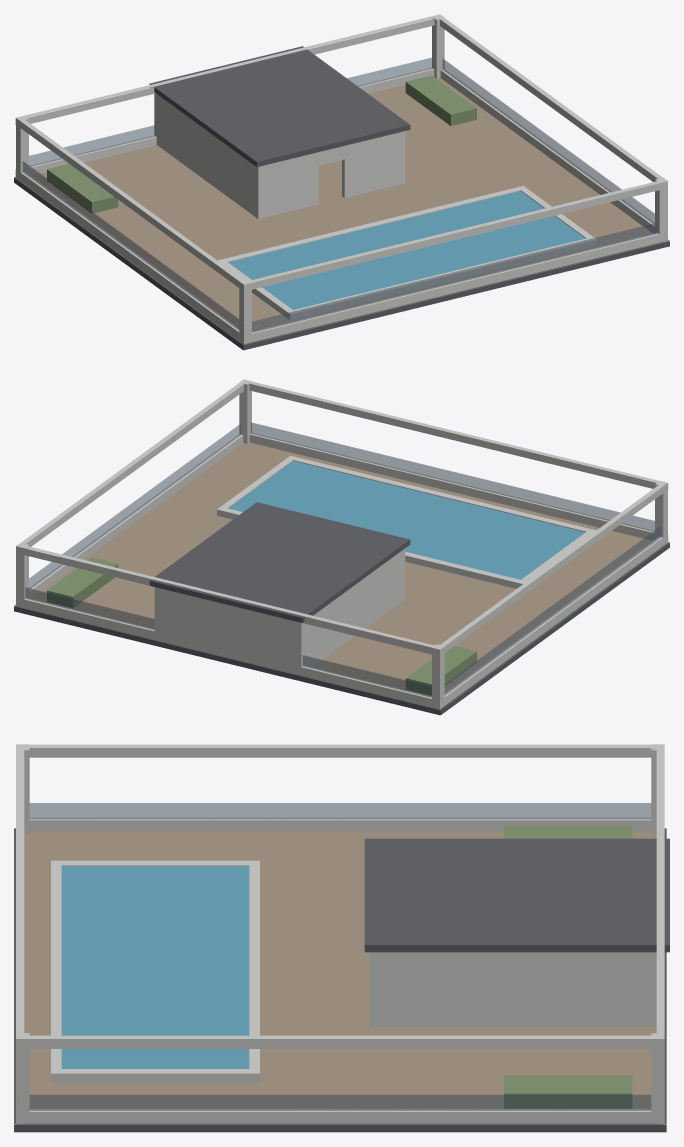
The model's file is condo-roof-b.zfix-v3.lod1.glb.
3 views of the same model, one above another, from view 1: azimuth 30°, elevation 25°; view 2: azimuth 150°, elevation 25°; view 3: azimuth 270°, elevation 25° (orthographic). The views are drawn at different scales.
Parts seen in each view (by area): view 1: condo-roof-b; view 2: condo-roof-b; view 3: condo-roof-b.
Part boxes in pixels (left/top/right/bottom): condo-roof-b: left=14, top=14, right=669, bottom=350; condo-roof-b: left=14, top=379, right=669, bottom=715; condo-roof-b: left=14, top=744, right=669, bottom=1132.
Size of the model in its own units: 26.16 by 3.83 by 24.48.
